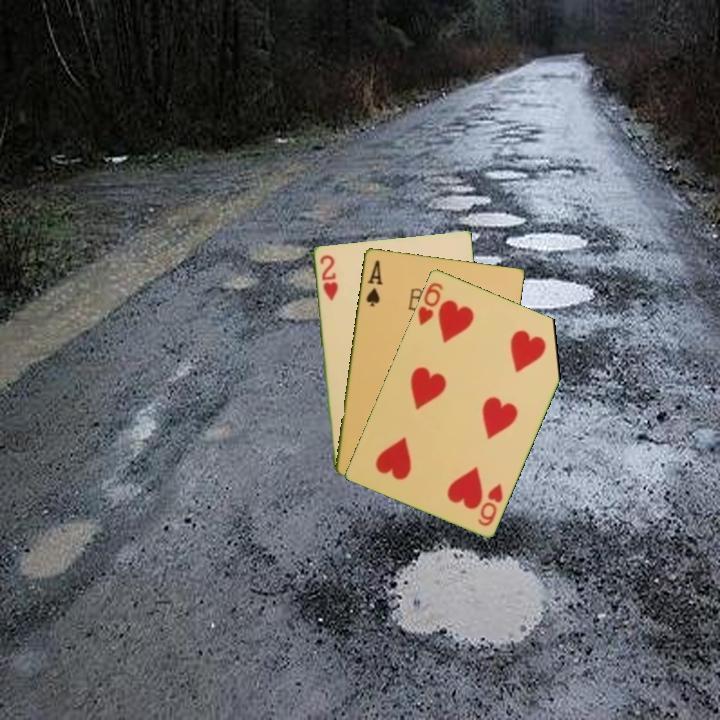2h: (316, 251, 340, 304)
6h: (414, 278, 446, 328), (474, 479, 506, 529)
As: (362, 256, 385, 309)
